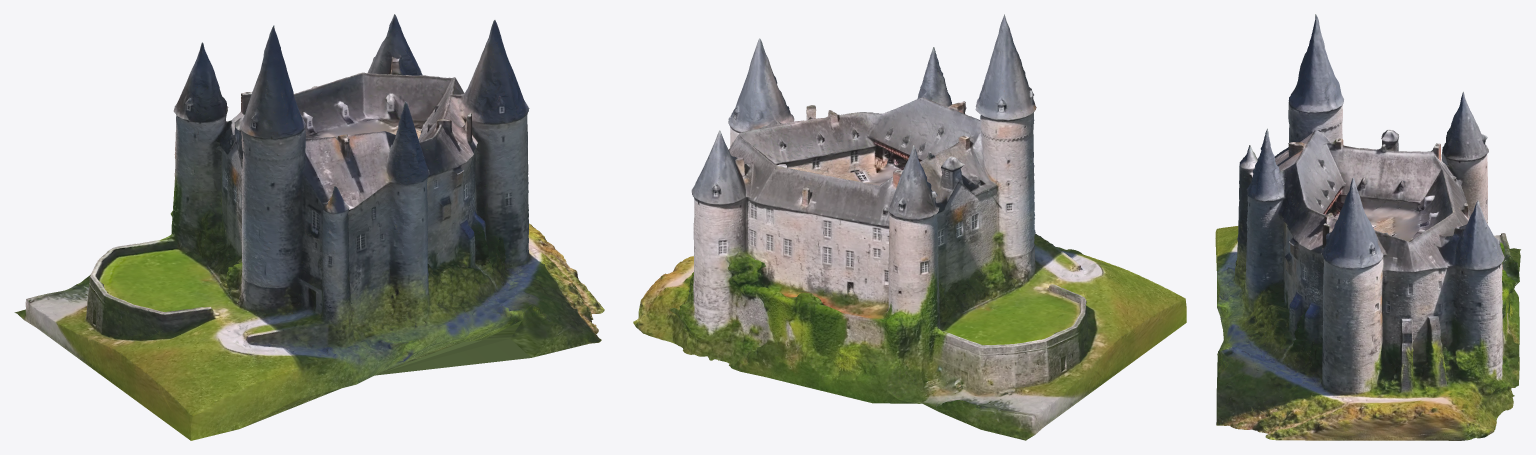
Rendered from sf-castle-of-veves-cd4aec.glb.
The picture shows the model from 3 angles, left to right: view 1: azimuth 30°, elevation 25°; view 2: azimuth 150°, elevation 25°; view 3: azimuth 270°, elevation 25°; orthographic projection. The views are drawn at different scales.
Parts seen in each view (by area): view 1: Castle-Of-Veves_Castle-Of-Veves_u1_v1_0; view 2: Castle-Of-Veves_Castle-Of-Veves_u1_v1_0; view 3: Castle-Of-Veves_Castle-Of-Veves_u1_v1_0.
Part boxes in pixels (<box>): Castle-Of-Veves_Castle-Of-Veves_u1_v1_0: <box>14,14,604,440</box>; Castle-Of-Veves_Castle-Of-Veves_u1_v1_0: <box>633,14,1186,440</box>; Castle-Of-Veves_Castle-Of-Veves_u1_v1_0: <box>1215,14,1520,440</box>.
Bounding box in the file's own units: 4.38 × 3.18 × 2.97.
Materials: 1 (1 with a texture image).
